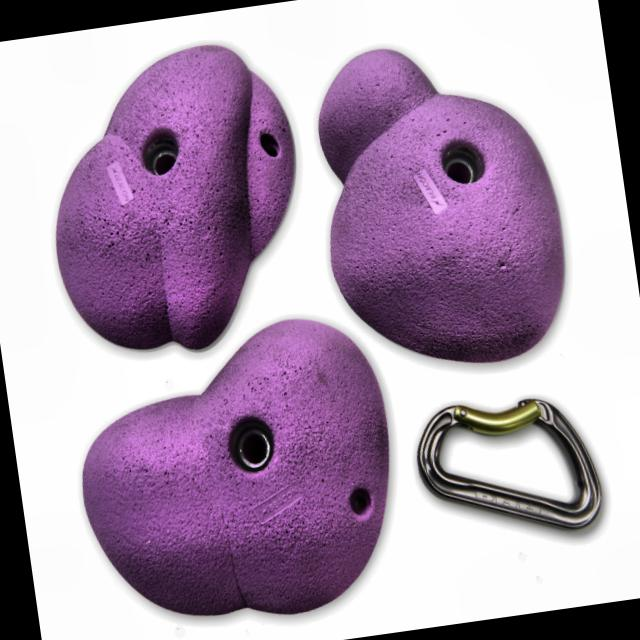Hold: (56, 312, 404, 640), (28, 28, 322, 367), (308, 25, 586, 382)
